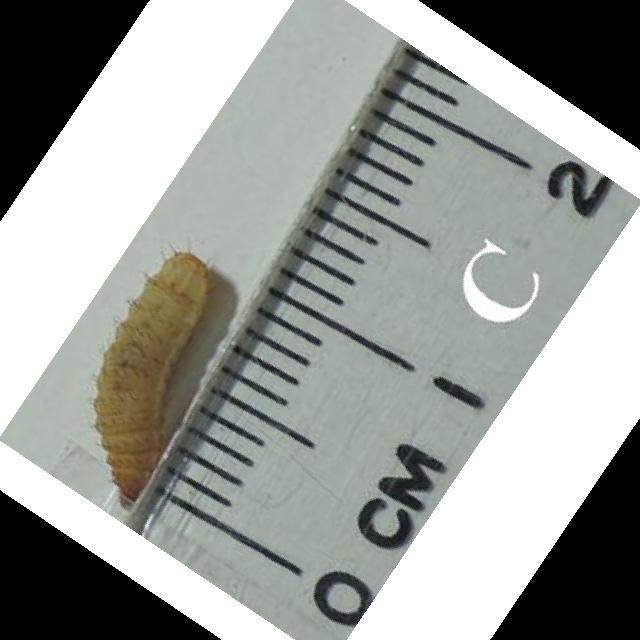Maggot: (90, 252, 214, 502)
